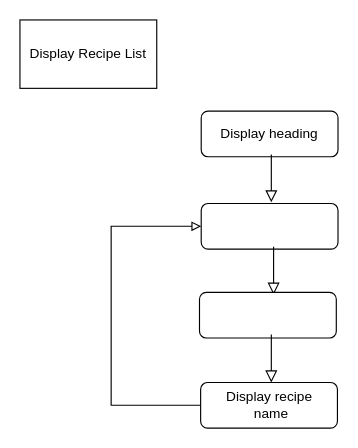
This 358x448 diagram has some shape labels left out. The shapes that lost their labels are listed below. From the top down, each one's centre as x and y in pixels, then its label:
pixel 269 225: For each recipe in recipe list
pixel 267 314: Display number in list
